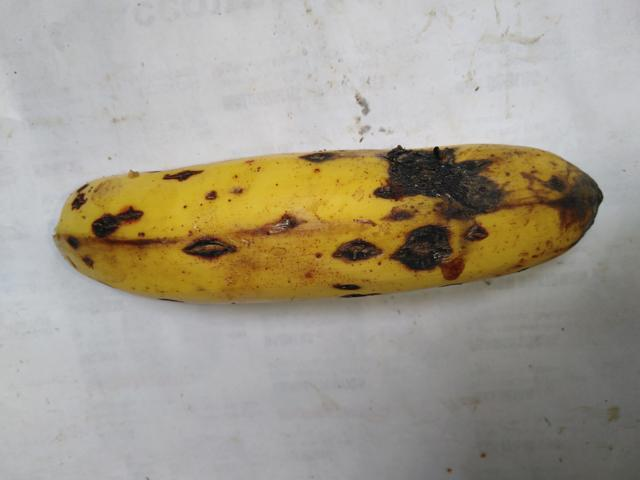rotten: (327, 124, 513, 305), (536, 137, 622, 256), (55, 176, 146, 250), (252, 190, 316, 238), (285, 130, 344, 181), (150, 149, 216, 186), (175, 233, 233, 272)
